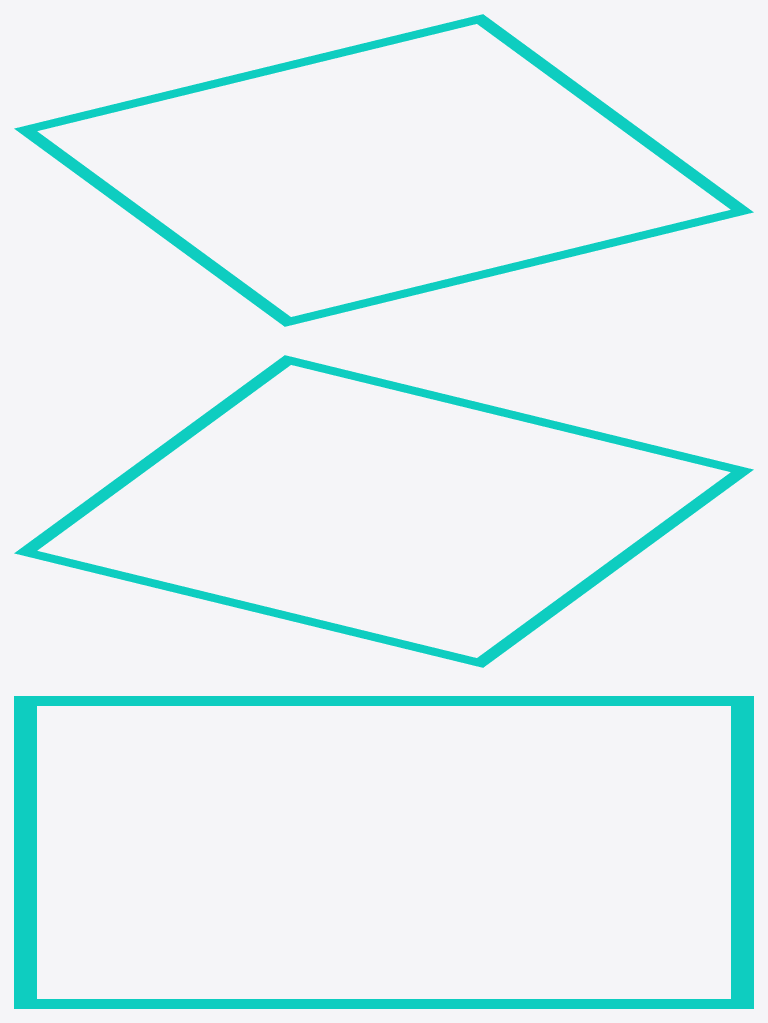
Rendered from LightSmall.fbx.
3 renders of one model, top to bottom at view 1: azimuth 30°, elevation 25°; view 2: azimuth 150°, elevation 25°; view 3: azimuth 270°, elevation 25°, orthographic. The views are drawn at different scales.
Visible parts, largest first — view 1: polySurface2; view 2: polySurface2; view 3: polySurface2.
Boxes of the visible parts, left/top/right/bottom form: polySurface2: left=14, top=14, right=753, bottom=326; polySurface2: left=14, top=355, right=753, bottom=667; polySurface2: left=14, top=696, right=753, bottom=1008.
Size of the model in its own units: 0.6 by 0 by 0.6.
